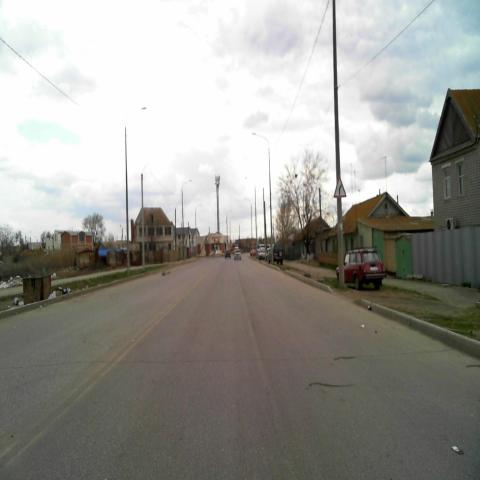1_11: (334, 175, 346, 199)
